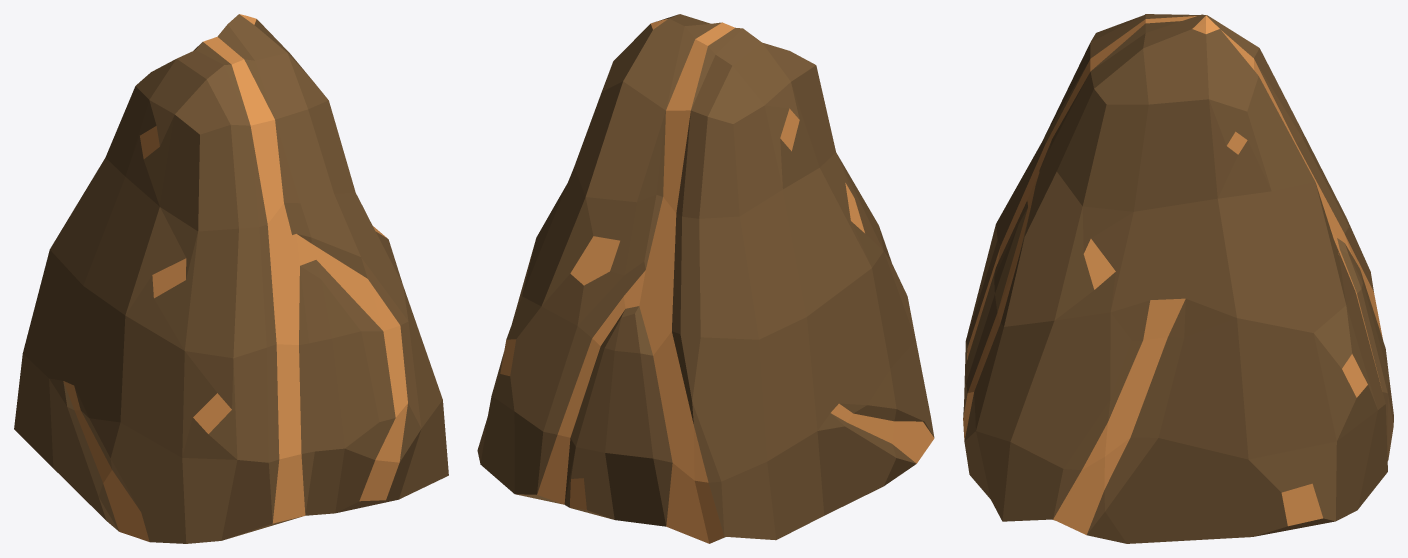
File: CopperRock.glb
3 views of the same model, side by side, from view 1: azimuth 30°, elevation 25°; view 2: azimuth 150°, elevation 25°; view 3: azimuth 270°, elevation 25° (orthographic). The views are drawn at different scales.
Visible parts, largest first — view 1: CopperRock; view 2: CopperRock; view 3: CopperRock.
Boxes of the visible parts, x1,y1,x2,y2 form: CopperRock: (14,14,448,543); CopperRock: (477,14,934,543); CopperRock: (963,14,1393,543).
Size of the model in its own units: 0.6998 by 0.9335 by 0.7637.
